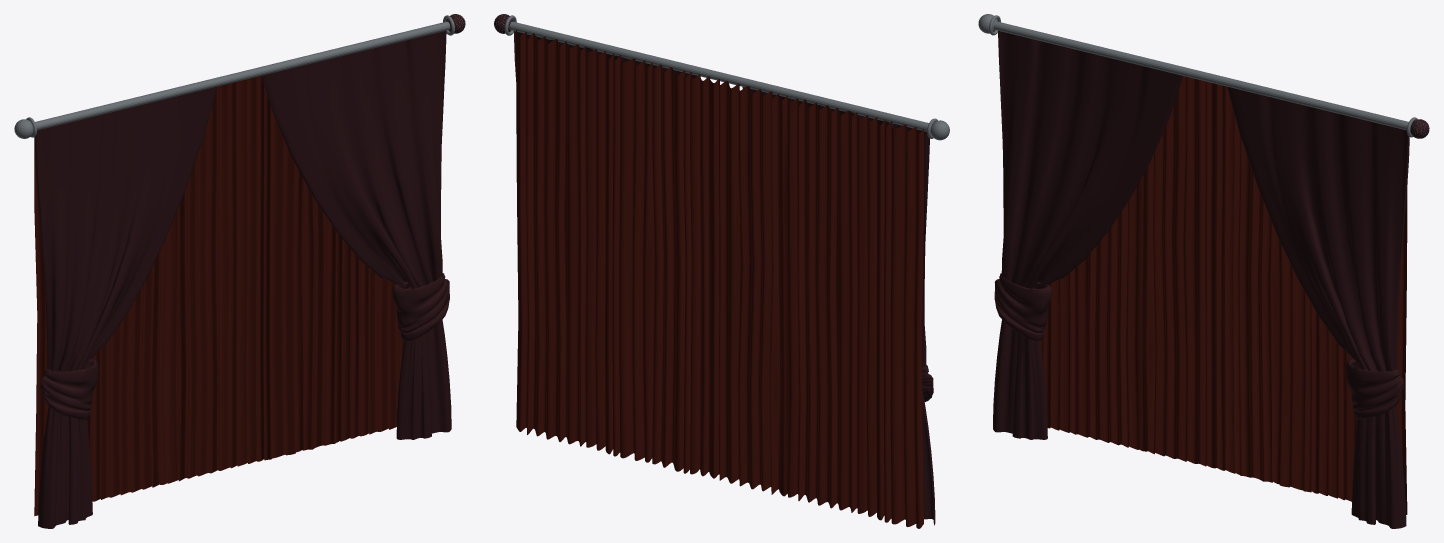
File: curtaincolor.dae
3 views of the same model, side by side, from view 1: azimuth 30°, elevation 25°; view 2: azimuth 150°, elevation 25°; view 3: azimuth 330°, elevation 25° (orthographic).
Visible parts, largest first — view 1: group_7, group_9_001, group_9, group_11, group_11_001, group_5, group_10_001, group_10; view 2: group_7, group_5, group_9, group_11, group_9_001; view 3: group_7, group_9, group_9_001, group_11_001, group_11, group_5, group_10, group_10_001.
Part boxes in pixels (x1,y1,x2,y2): group_7: (34, 76, 404, 516); group_9_001: (261, 30, 446, 288); group_9: (34, 86, 216, 371); group_11: (38, 406, 92, 528); group_11_001: (396, 285, 451, 439); group_5: (35, 21, 450, 130); group_10_001: (392, 273, 449, 340); group_10: (40, 359, 98, 419); group_7: (516, 30, 923, 528); group_5: (509, 21, 928, 131); group_9: (742, 86, 929, 367); group_11: (922, 390, 935, 525); group_9_001: (513, 31, 697, 81); group_7: (1040, 76, 1407, 514); group_9: (998, 30, 1182, 288); group_9_001: (1227, 86, 1409, 371); group_11_001: (1351, 406, 1406, 528); group_11: (993, 285, 1047, 439); group_5: (993, 21, 1408, 130); group_10: (994, 273, 1052, 340); group_10_001: (1346, 359, 1404, 419).
Bounding box in the file's own units: 2.64 × 0.1862 × 2.28.
